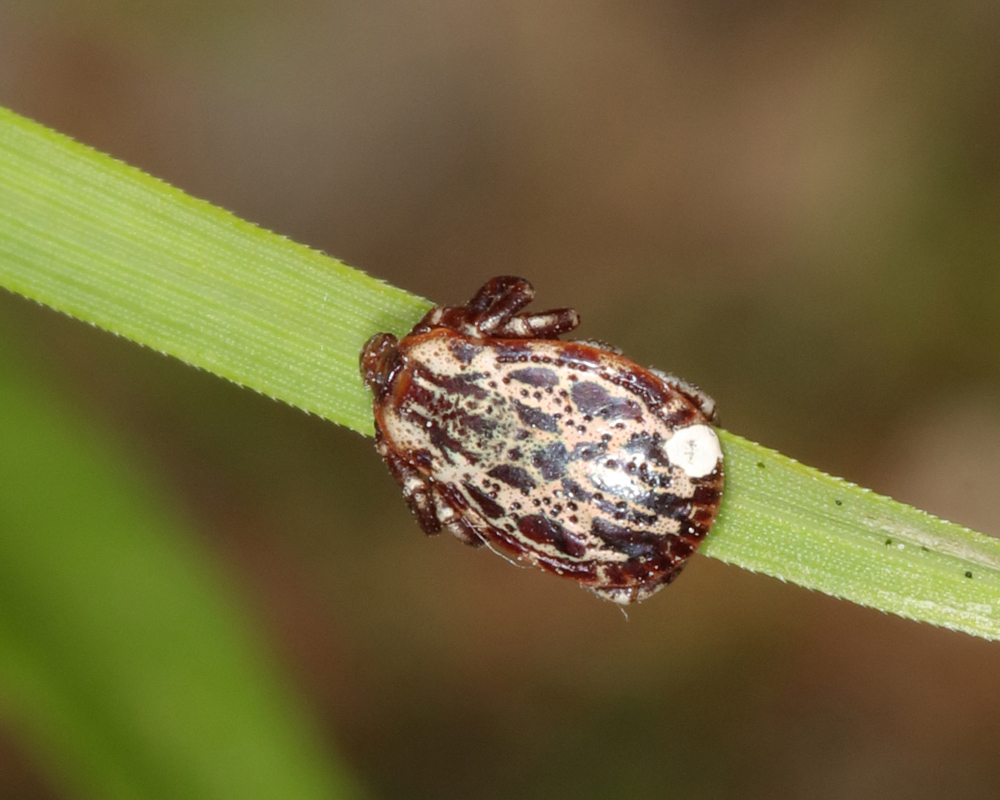garrapata: (357, 273, 749, 627)
